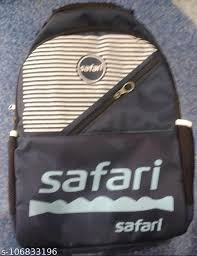backpack: (6, 0, 196, 255)
